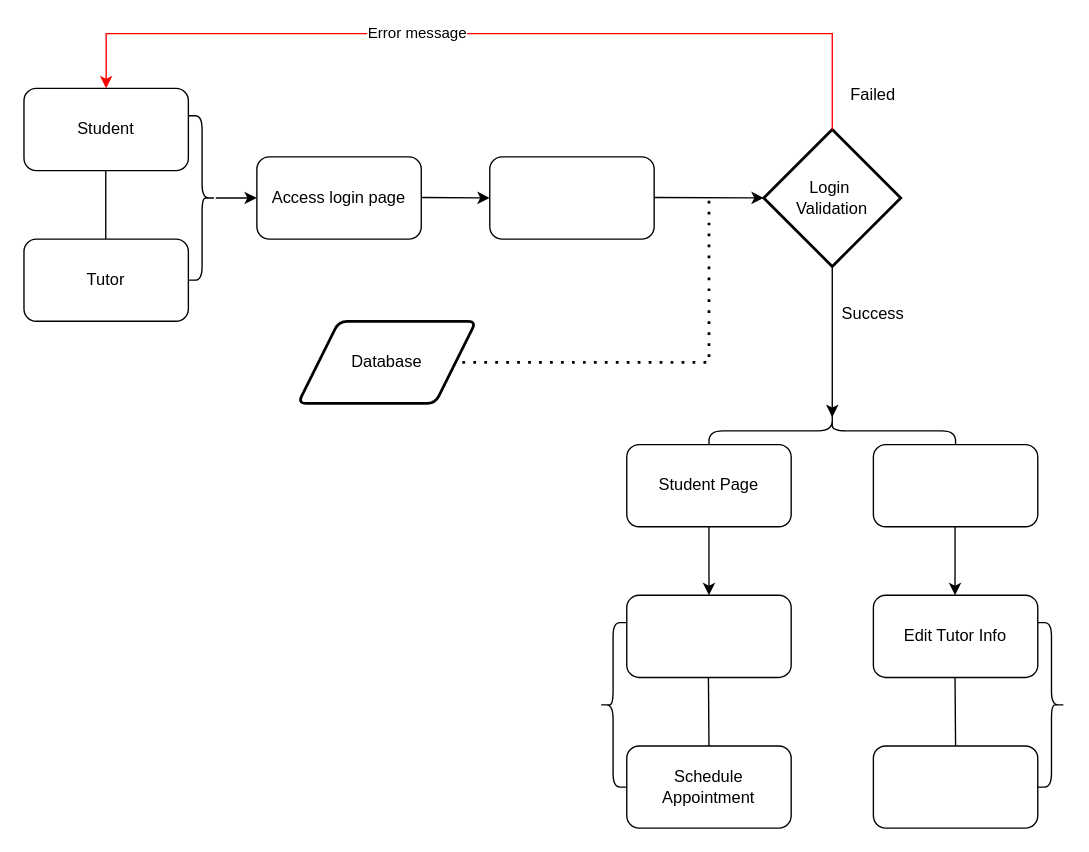
This 1089x852 diagram has some shape labels left out. The box of each missing label's shape, as (x1, y1, x2, y2) in pixels:
Edit Student Info: (625, 594, 791, 677)
login(): (488, 155, 654, 239)
Set Availability: (872, 745, 1038, 828)
Tutor page: (872, 443, 1038, 527)
